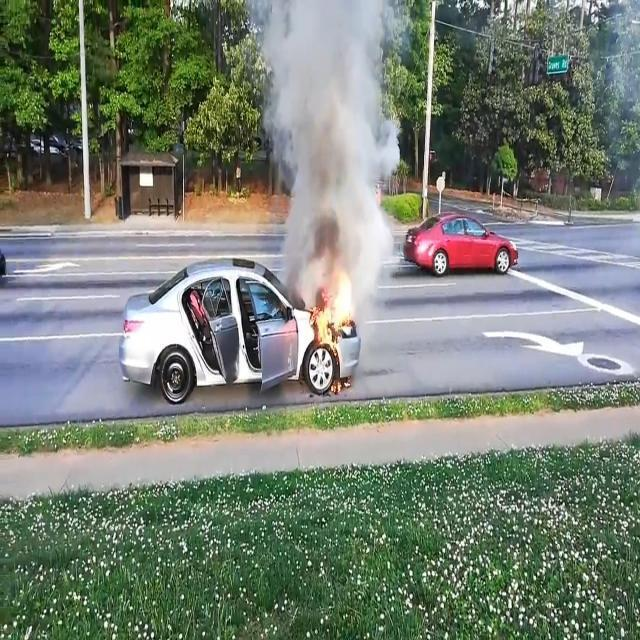fire: (296, 256, 362, 400)
